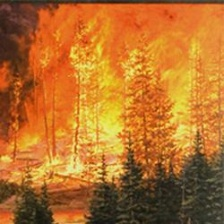fire: (9, 29, 224, 182)
